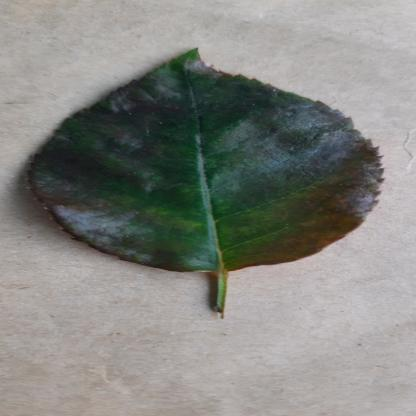powdery-mildew: (12, 49, 386, 275)
